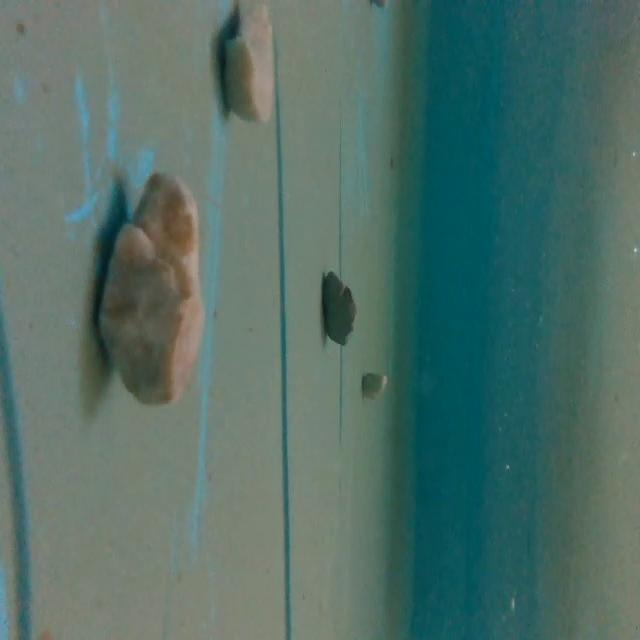rock: (89, 158, 212, 412), (216, 1, 282, 130), (319, 263, 360, 357), (354, 371, 392, 399)
